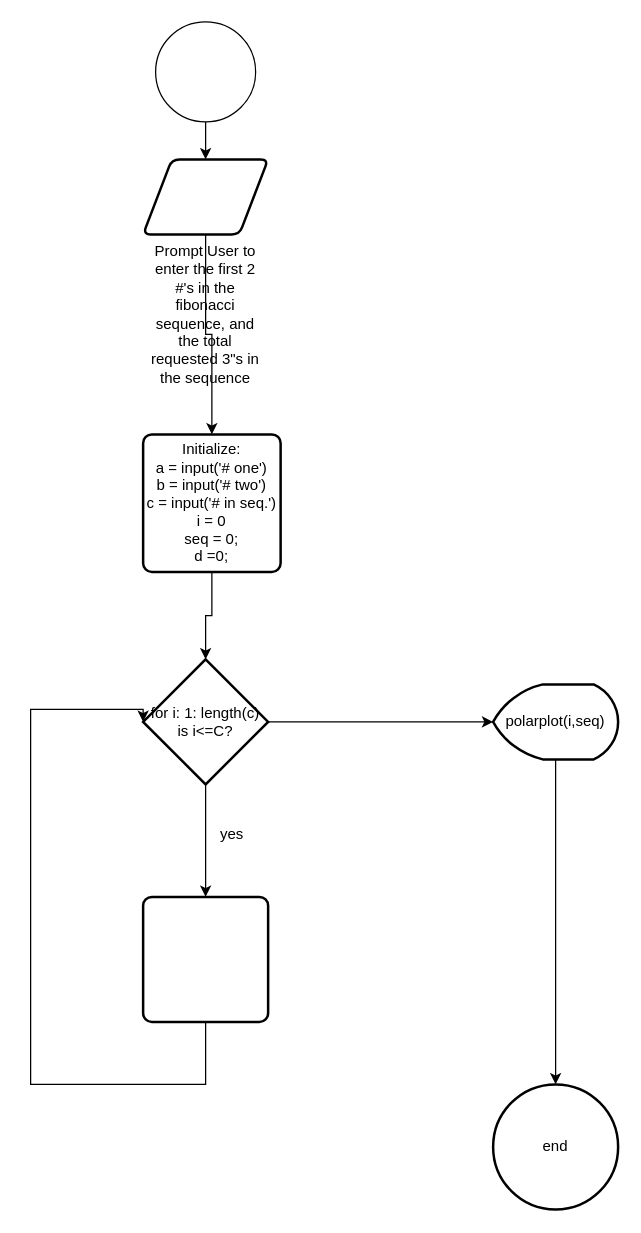
Image size: 641x1233. Some labels were removed from this diagram. Here are the shapes that lost their labels. From the top down, the centre of each, then its label:
At point 205,71: "Start".
At point 205,958: "a + b = d seq(i) = d a = b b = d".
